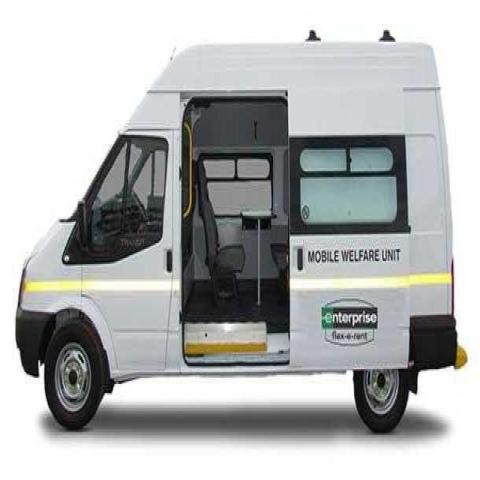van: (15, 39, 458, 432)
